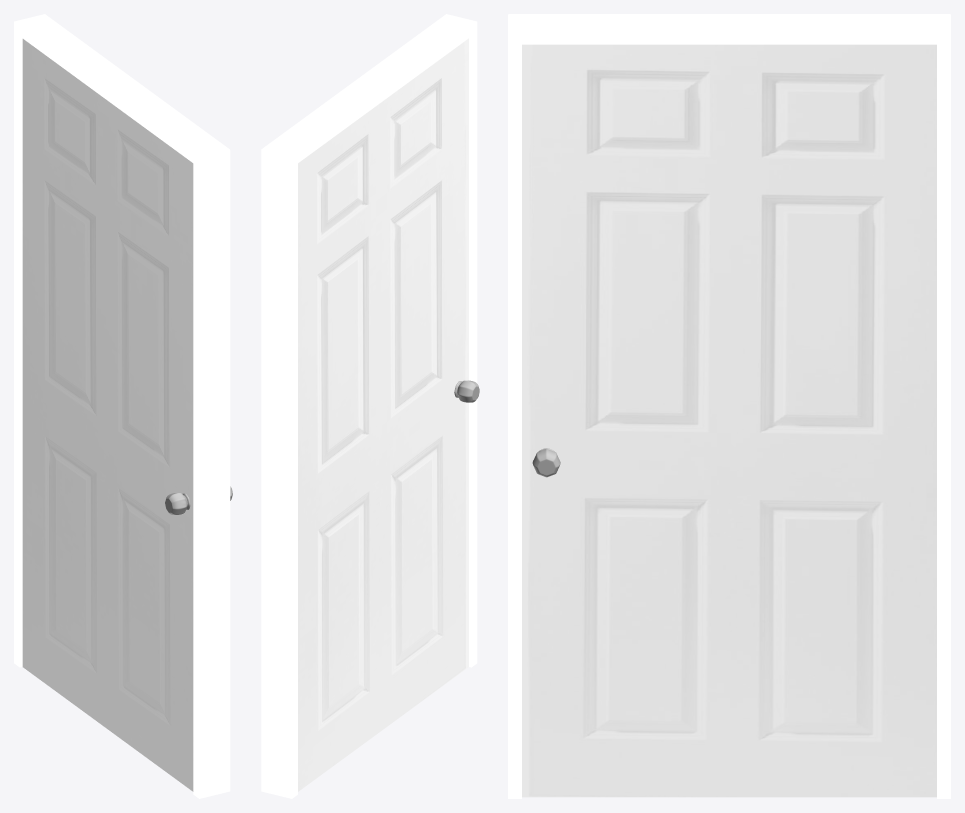
The model's file is solid_walkin.b9eb83b9.gltf.
3 renders of one model, left to right at view 1: azimuth 30°, elevation 25°; view 2: azimuth 150°, elevation 25°; view 3: azimuth 270°, elevation 25°, orthographic. The views are drawn at different scales.
Parts seen in each view (by area): view 1: doors, trims, knob; view 2: doors, trims, knob; view 3: doors, trims.
Boxes of the visible parts, x1,y1,x2,y2 form: doors: (22,39,193,791); trims: (14,14,230,798); knob: (165,486,232,514); doors: (298,38,468,791); trims: (261,14,477,798); knob: (454,380,479,402); doors: (522,44,936,797); trims: (508,14,950,798).
Bounding box in the file's own units: 0.5937 × 6.01 × 3.14.
Materials: 3 (1 with a texture image).
